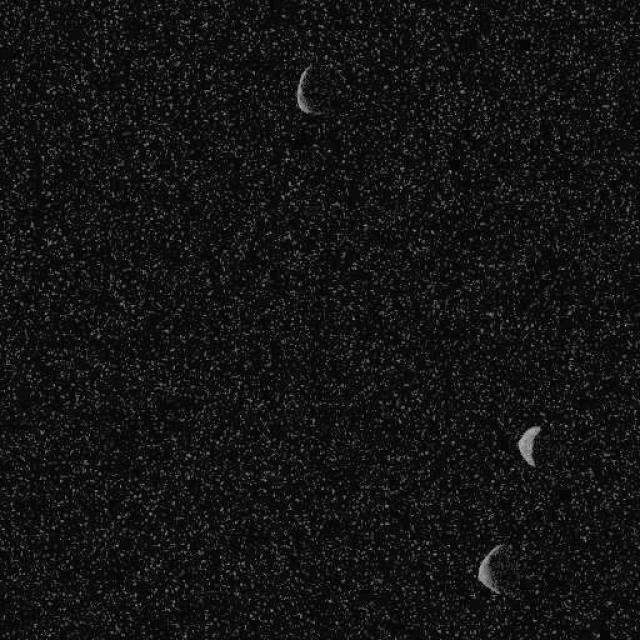D2: (476, 543, 509, 595), (295, 64, 319, 115), (516, 423, 542, 468)
